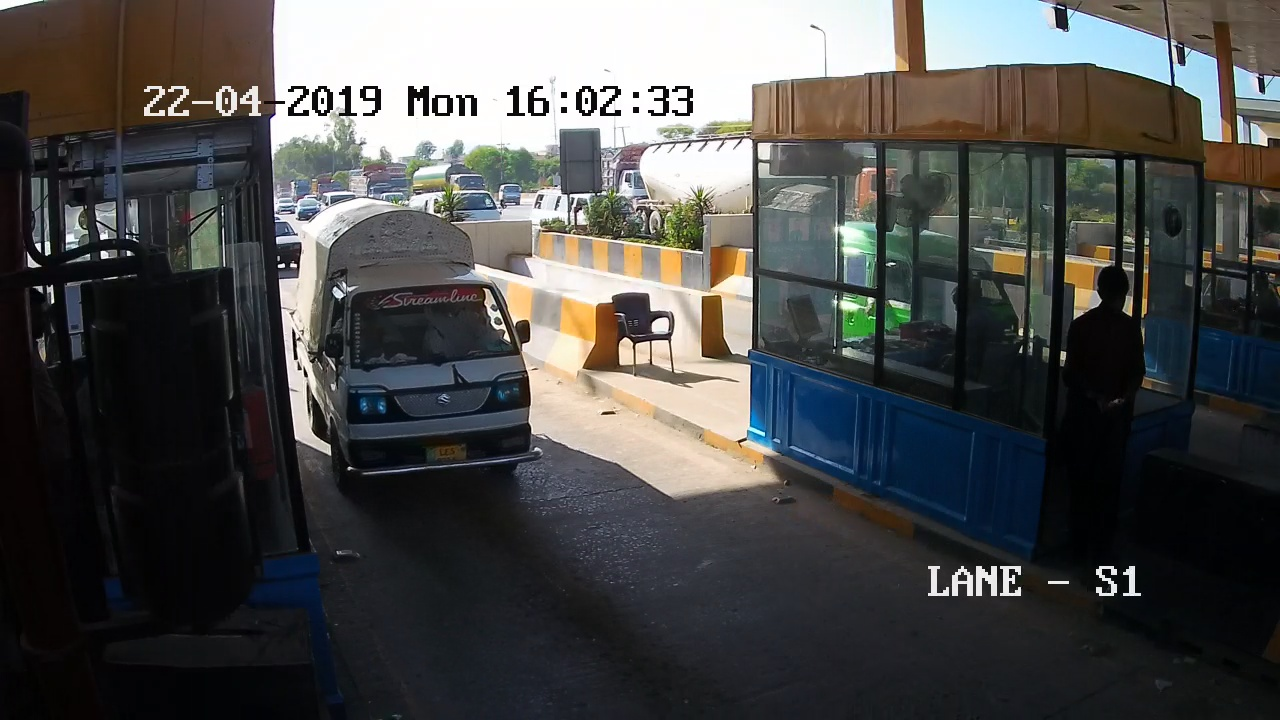car: (290, 207, 558, 494)
